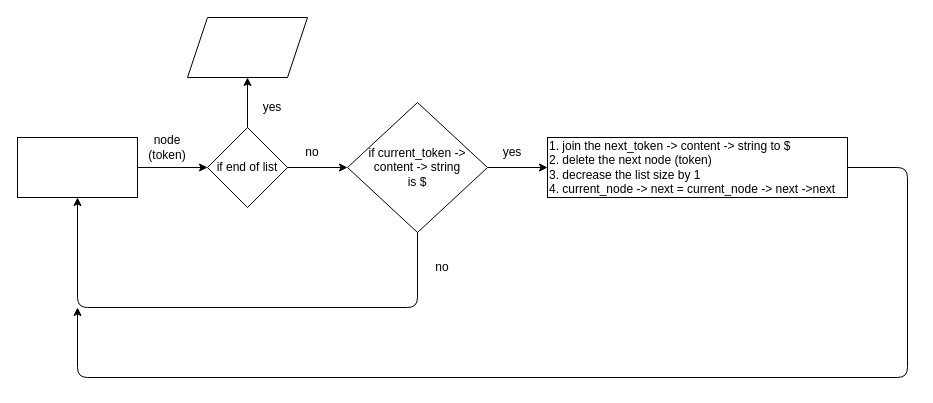
Image size: 933x403. Some labels were removed from this diagram. The centre of each missing label's shape, as x and y in pixels:
"return" belongs at point 247,47.
"tokens linked list" belongs at point 77,167.
